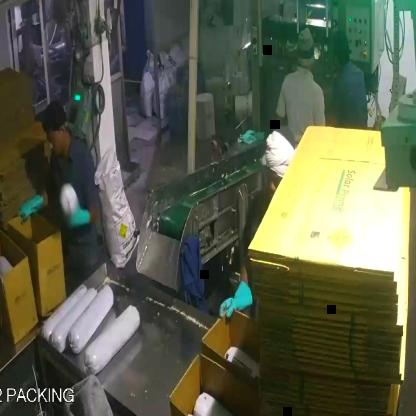glove: (216, 280, 258, 328), (15, 181, 47, 229), (60, 199, 99, 238)
